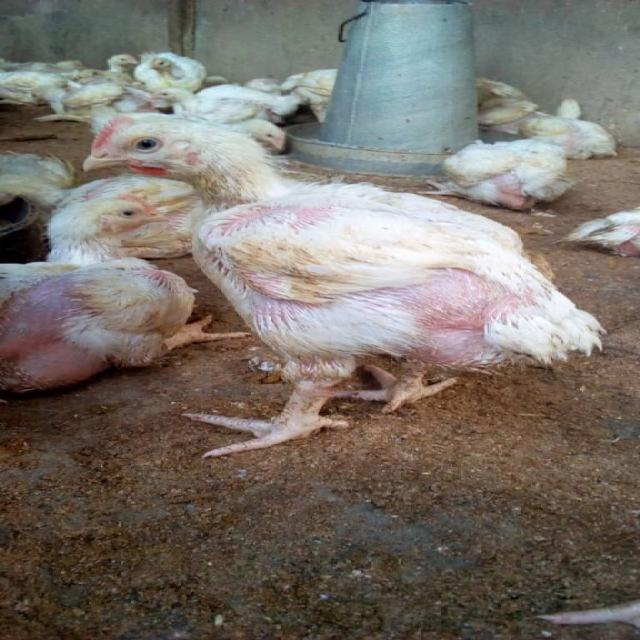poussin: (84, 116, 604, 468), (0, 172, 198, 424), (444, 137, 583, 210), (480, 92, 620, 158), (195, 91, 290, 154), (0, 49, 81, 115), (144, 80, 250, 116), (78, 50, 140, 110), (138, 52, 209, 88)
